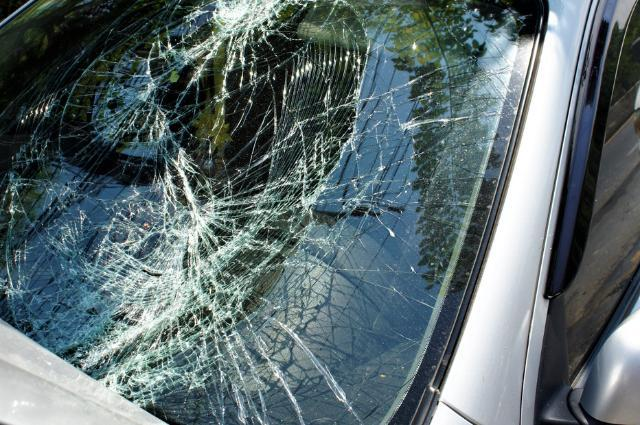Windshield: (0, 0, 548, 425)
